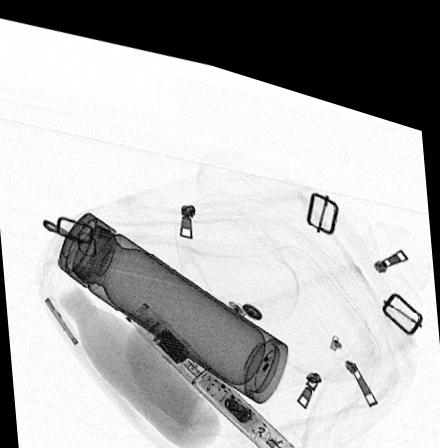Baton: (123, 289, 297, 448)
